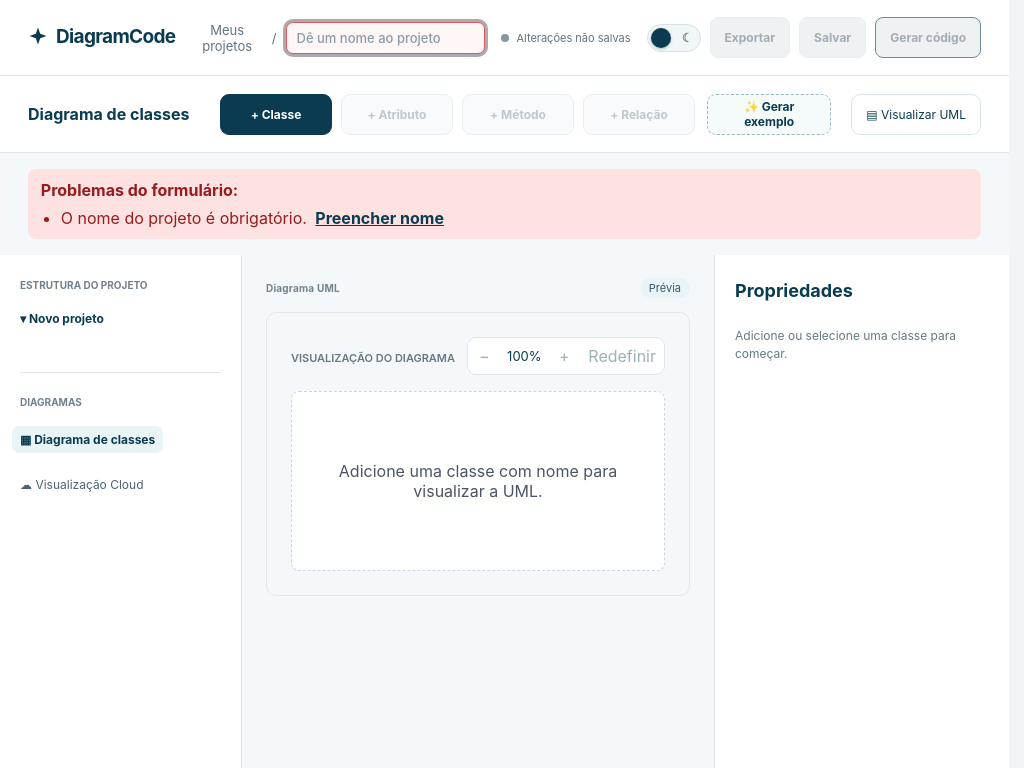
FE-19 — CRUD de métodos › bloqueia o salvamento com método incompleto
The image size is (1036, 768).
Click the button "✨ Gerar exemplo": (769, 114) x1=707 y1=94 x2=831 y2=134
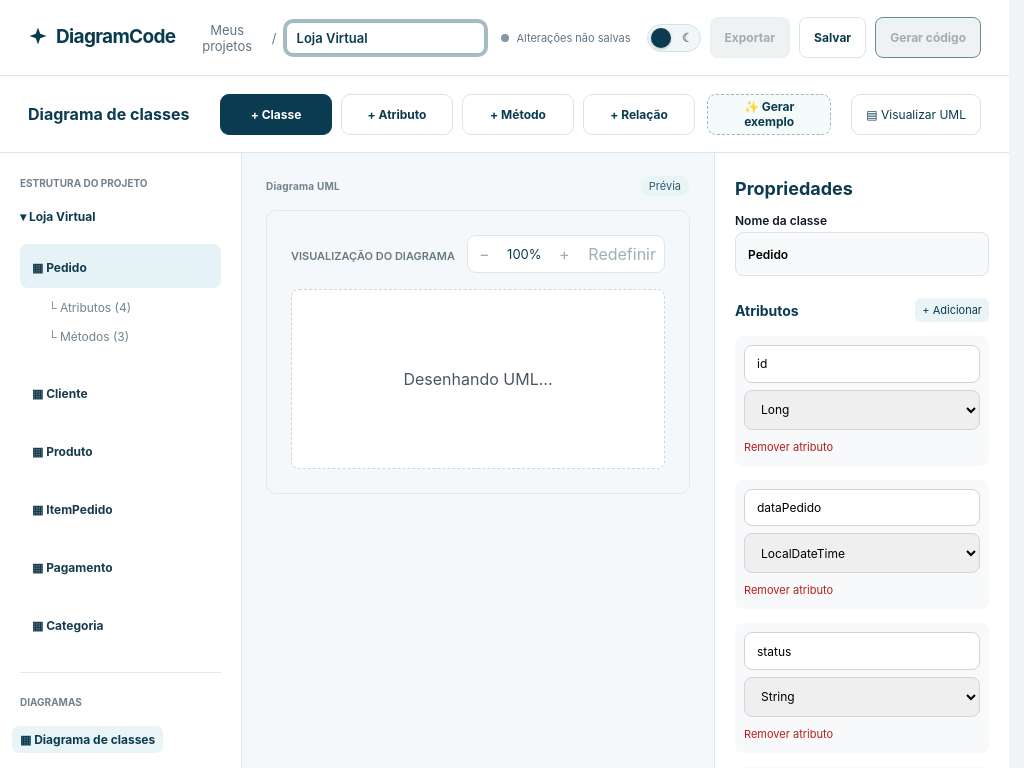
Click the button "+ Método": (518, 114) x1=462 y1=94 x2=574 y2=134
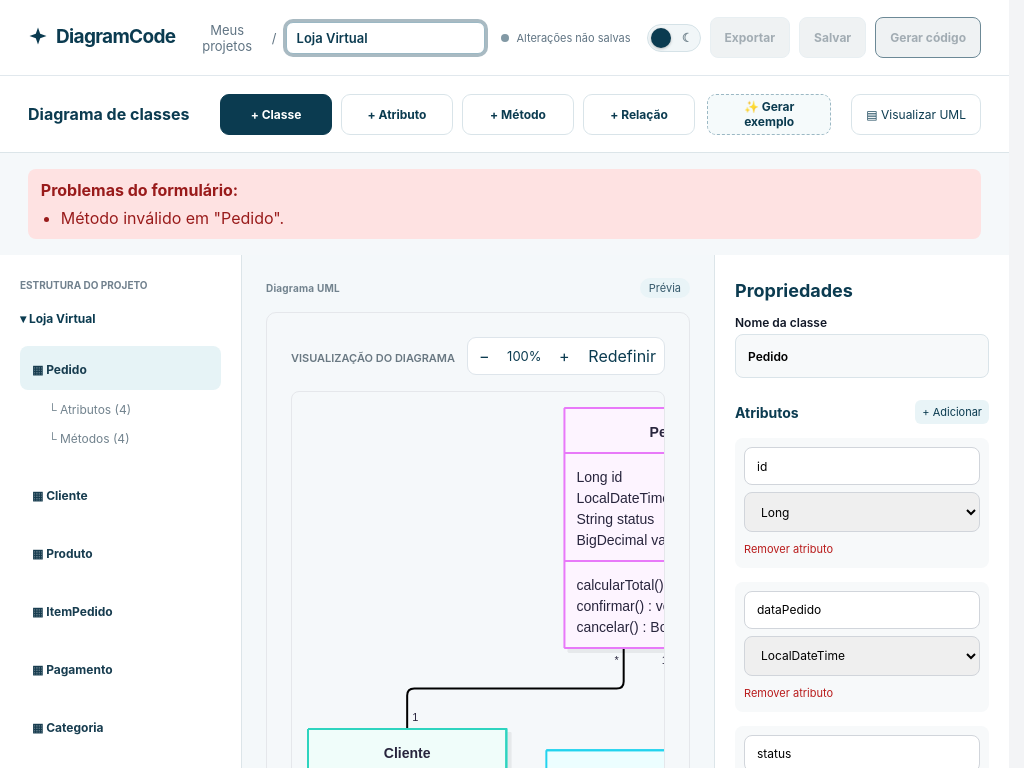
Expected: the button "Salvar" is disabled, x1=799 y1=17 x2=866 y2=58
Expected: the text "Método inválido em \"Pedido\"." is shown, x1=61 y1=208 x2=284 y2=228
